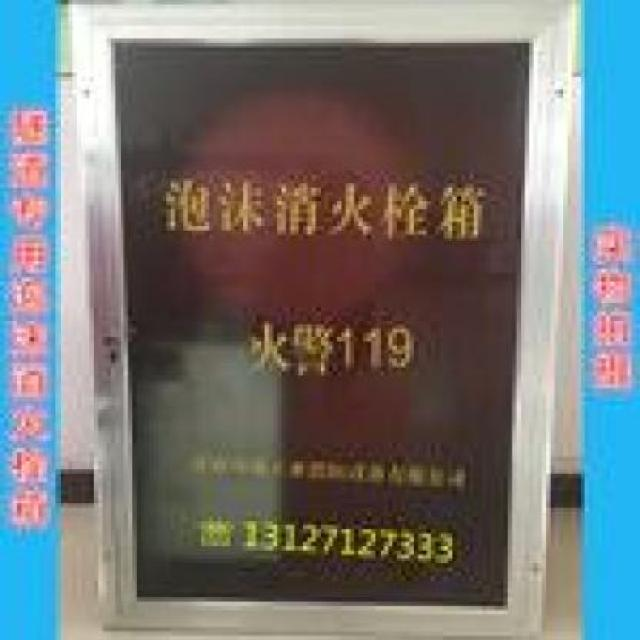firehydrant: (66, 3, 579, 640)
